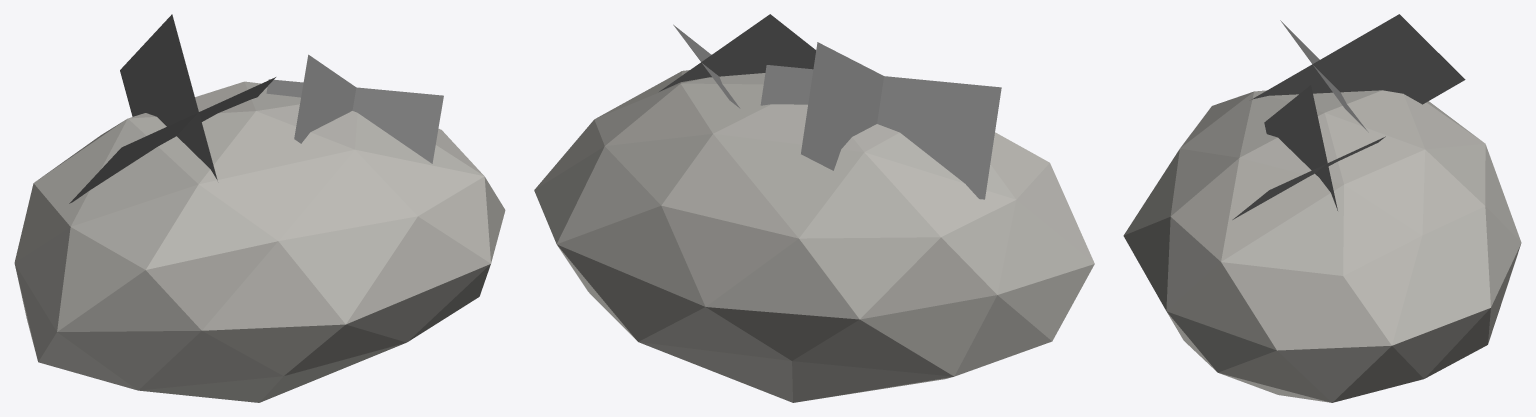
File: moss-rock.glb
The picture shows the model from 3 angles, left to right: view 1: azimuth 30°, elevation 25°; view 2: azimuth 150°, elevation 25°; view 3: azimuth 270°, elevation 25°; orthographic projection. The views are drawn at different scales.
Visible parts, largest first — view 1: rock, leafcard.002, leafcard.003, leafcard, leafcard.001; view 2: rock, leafcard.001, leafcard.002, leafcard, leafcard.003; view 3: rock, leafcard.002, leafcard, leafcard.003, leafcard.001.
Part boxes in pixels (x1=…): rock: x1=14, y1=81, x2=505, y2=402; leafcard.002: x1=120, y1=14, x2=217, y2=180; leafcard.003: x1=266, y1=79, x2=443, y2=163; leafcard: x1=294, y1=54, x2=356, y2=143; leafcard.001: x1=69, y1=77, x2=275, y2=203; rock: x1=534, y1=70, x2=1094, y2=402; leafcard.001: x1=760, y1=65, x2=1001, y2=199; leafcard.002: x1=801, y1=42, x2=883, y2=170; leafcard: x1=659, y1=14, x2=816, y2=91; leafcard.003: x1=673, y1=24, x2=740, y2=108; rock: x1=1123, y1=90, x2=1521, y2=402; leafcard.002: x1=1251, y1=14, x2=1465, y2=104; leafcard: x1=1264, y1=85, x2=1337, y2=210; leafcard.003: x1=1232, y1=136, x2=1385, y2=219; leafcard.001: x1=1280, y1=20, x2=1368, y2=132.
Bounding box in the file's own units: 1.63 × 1.16 × 1.26.
2 materials, 1 textured.
